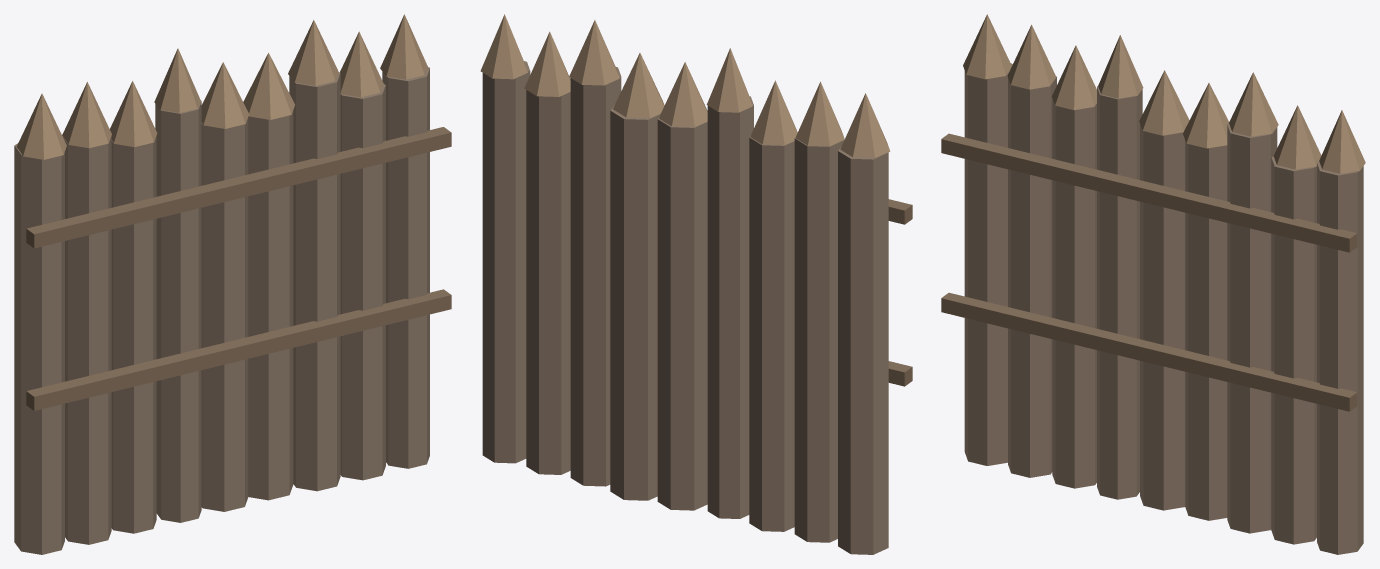
Rendered from palisade.glb.
3 views of the same model, side by side, from view 1: azimuth 30°, elevation 25°; view 2: azimuth 150°, elevation 25°; view 3: azimuth 330°, elevation 25° (orthographic). The views are drawn at different scales.
Visible parts, largest first — view 1: palisade; view 2: palisade; view 3: palisade.
Boxes of the visible parts, x1=… form: palisade: x1=14, y1=14, x2=451, y2=554; palisade: x1=480, y1=14, x2=912, y2=554; palisade: x1=941, y1=14, x2=1365, y2=554.
Size of the model in its own units: 4.3 by 4.57 by 0.6363.
